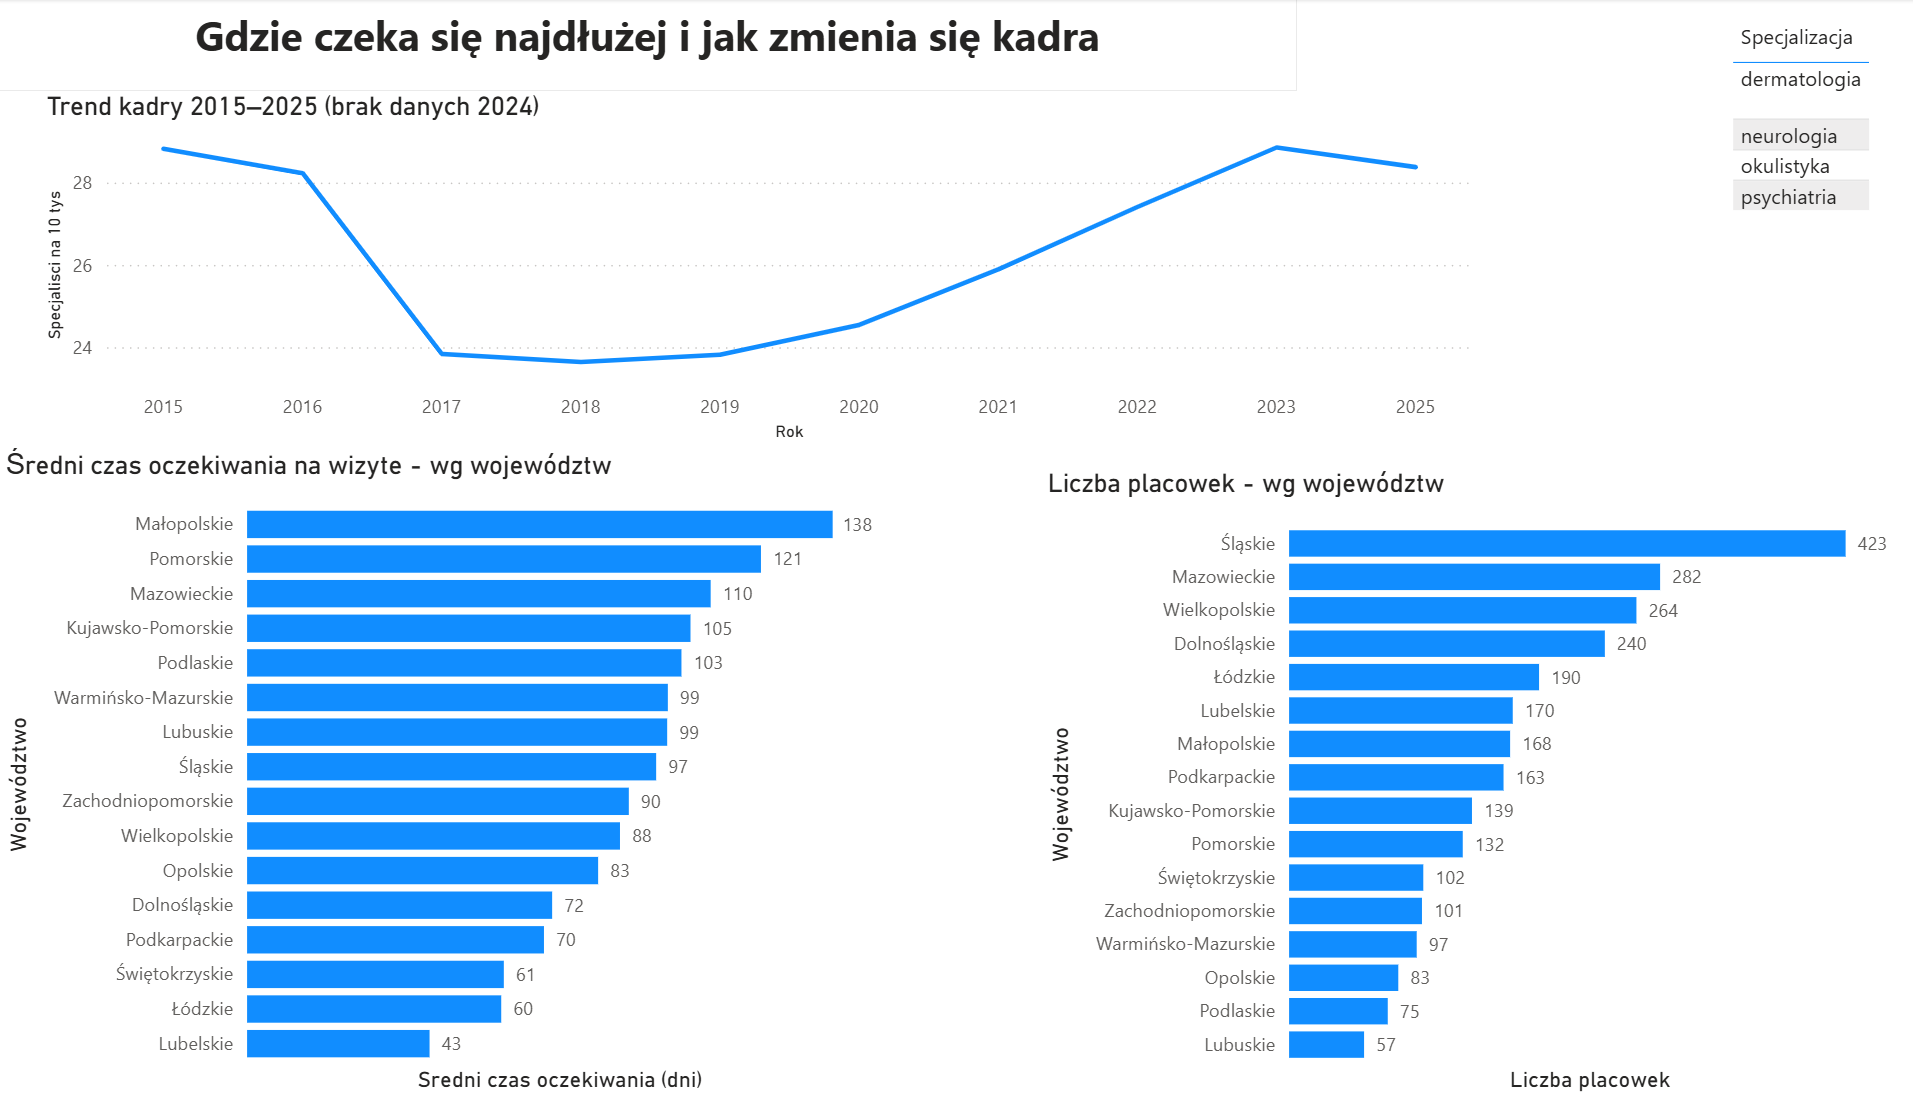

This screenshot's page, from the dashboard's own definition file:
{"tool":"powerbi","page":{"name":"Szczegóły","canvas":[1280,720],"ordinal":1},"visuals":[{"type":"clusteredBarChart","title":"Średni czas oczekiwania na wizyte - wg województw","fields":{"Category":["dim_wojewodztwo.Nazwa"],"Y":["nfz_pobrane.Sredni czas oczekiwania (dni)"]},"box":[0,293.8,577.2,426],"z":0},{"type":"lineChart","title":"Trend kadry 2015–2025 (brak danych 2024)","fields":{"Category":["dim_rok.Rok"],"Y":["mz89_specjalisci_polaczone.Specjalisci na 10 tys"]},"box":[26.8,60.2,942.3,233.6],"z":1000},{"type":"tableEx","fields":{"Values":["dim_specjalizacja.Specjalizacja"]},"box":[1129.5,9.2,109.9,140],"z":2000},{"type":"textbox","box":[0,0,850.1,60.2],"z":3000},{"type":"clusteredBarChart","title":"Liczba placowek  - wg województw","fields":{"Category":["dim_wojewodztwo.Nazwa"],"Y":["nfz_pobrane.Liczba placowek"]},"box":[681.9,306.9,562.1,412.9],"z":4000}]}

Visuals, with their boxes in screenshot pixels (x1, y1, x2, y2), scaled from the page's 1280x720 canvas onto the 1913x1099 screenshot:
"Średni czas oczekiwania na wizyte - wg województw" clusteredBarChart: (left=0, top=448, right=863, bottom=1098)
"Trend kadry 2015–2025 (brak danych 2024)" lineChart: (left=40, top=92, right=1448, bottom=448)
tableEx - dim_specjalizacja.Specjalizacja: (left=1688, top=14, right=1852, bottom=228)
textbox: (left=0, top=0, right=1271, bottom=92)
"Liczba placowek  - wg województw" clusteredBarChart: (left=1019, top=468, right=1859, bottom=1098)
